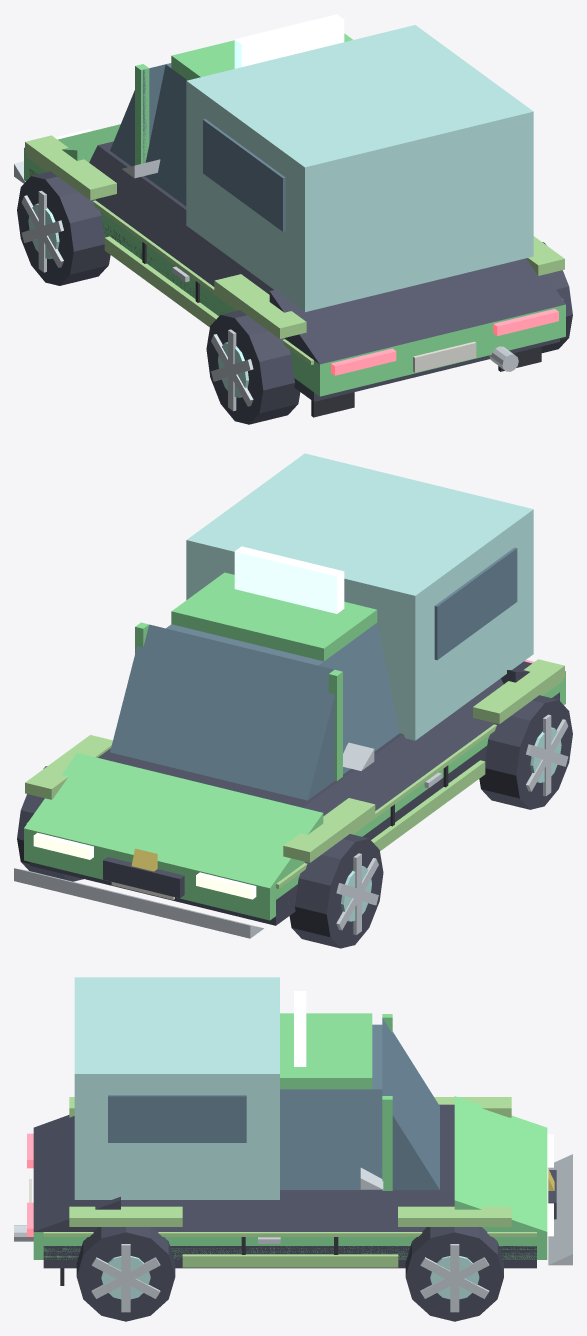
File: canal_runner.glb
3 renders of one model, top to bottom at view 1: azimuth 30°, elevation 25°; view 2: azimuth 150°, elevation 25°; view 3: azimuth 270°, elevation 25°, orthographic. The views are drawn at different scales.
Parts seen in each view (by area): view 1: VanCargo.014, Tail.045, Body.245, ShoulderL.042, Wheel_RL.205, Wheel_FL.205, VanWindow-1.014, CabinSideL.042, RoofSign.024, Arch-1False.121, Arch-1True.121, SideSkirt-1.141 (+18 smaller); view 2: VanCargo.014, Windshield.145, Nose.042, Roof.245, ShoulderL.042, Body.245, Wheel_FL.205, Wheel_RL.205, CabinSideL.042, RoofSign.024, VanWindow-1.014, Bumper.241 (+15 smaller); view 3: VanCargo.014, CabinSideR.042, Nose.042, ShoulderR.042, VanWindow1.014, Windshield.145, Roof.245, Wheel_RR.205, Wheel_FR.205, Tail.045, Sill.241, Body.245 (+18 smaller).
Part boxes in pixels (left/top/right/bottom): VanCargo.014: left=186, top=25, right=533, bottom=312; Tail.045: left=269, top=258, right=565, bottom=364; Body.245: left=24, top=148, right=565, bottom=396; ShoulderL.042: left=89, top=145, right=273, bottom=294; Wheel_RL.205: left=206, top=310, right=300, bottom=424; Wheel_FL.205: left=17, top=171, right=110, bottom=285; VanWindow-1.014: left=203, top=119, right=285, bottom=231; CabinSideL.042: left=145, top=64, right=187, bottom=205; RoofSign.024: left=234, top=14, right=344, bottom=68; Arch-1False.121: left=25, top=135, right=116, bottom=200; Arch-1True.121: left=214, top=274, right=306, bottom=338; SideSkirt-1.141: left=104, top=236, right=218, bottom=327; VanCargo.014: left=186, top=453, right=533, bottom=740; Windshield.145: left=110, top=624, right=334, bottom=800; Nose.042: left=24, top=753, right=323, bottom=888; Roof.245: left=171, top=572, right=377, bottom=661; ShoulderL.042: left=303, top=678, right=503, bottom=816; Body.245: left=24, top=672, right=565, bottom=920; Wheel_FL.205: left=289, top=834, right=383, bottom=948; Wheel_RL.205: left=479, top=695, right=572, bottom=809; CabinSideL.042: left=318, top=623, right=399, bottom=774; RoofSign.024: left=234, top=546, right=344, bottom=613; VanWindow-1.014: left=434, top=547, right=517, bottom=660; Bumper.241: left=14, top=868, right=263, bottom=938; VanCargo.014: left=74, top=977, right=279, bottom=1199; CabinSideR.042: left=280, top=1089, right=382, bottom=1189; Nose.042: left=454, top=1096, right=547, bottom=1231; ShoulderR.042: left=121, top=1191, right=454, bottom=1231; VanWindow1.014: left=108, top=1095, right=246, bottom=1142; Windshield.145: left=382, top=1018, right=439, bottom=1189; Roof.245: left=280, top=1013, right=372, bottom=1089; Wheel_RR.205: left=76, top=1227, right=175, bottom=1321; Wheel_FR.205: left=405, top=1227, right=503, bottom=1321; Tail.045: left=33, top=1115, right=120, bottom=1231; Sill.241: left=43, top=1246, right=536, bottom=1268; Body.245: left=33, top=1232, right=547, bottom=1259.
Size of the model in its own units: 3.1 by 2.62 by 5.44.
